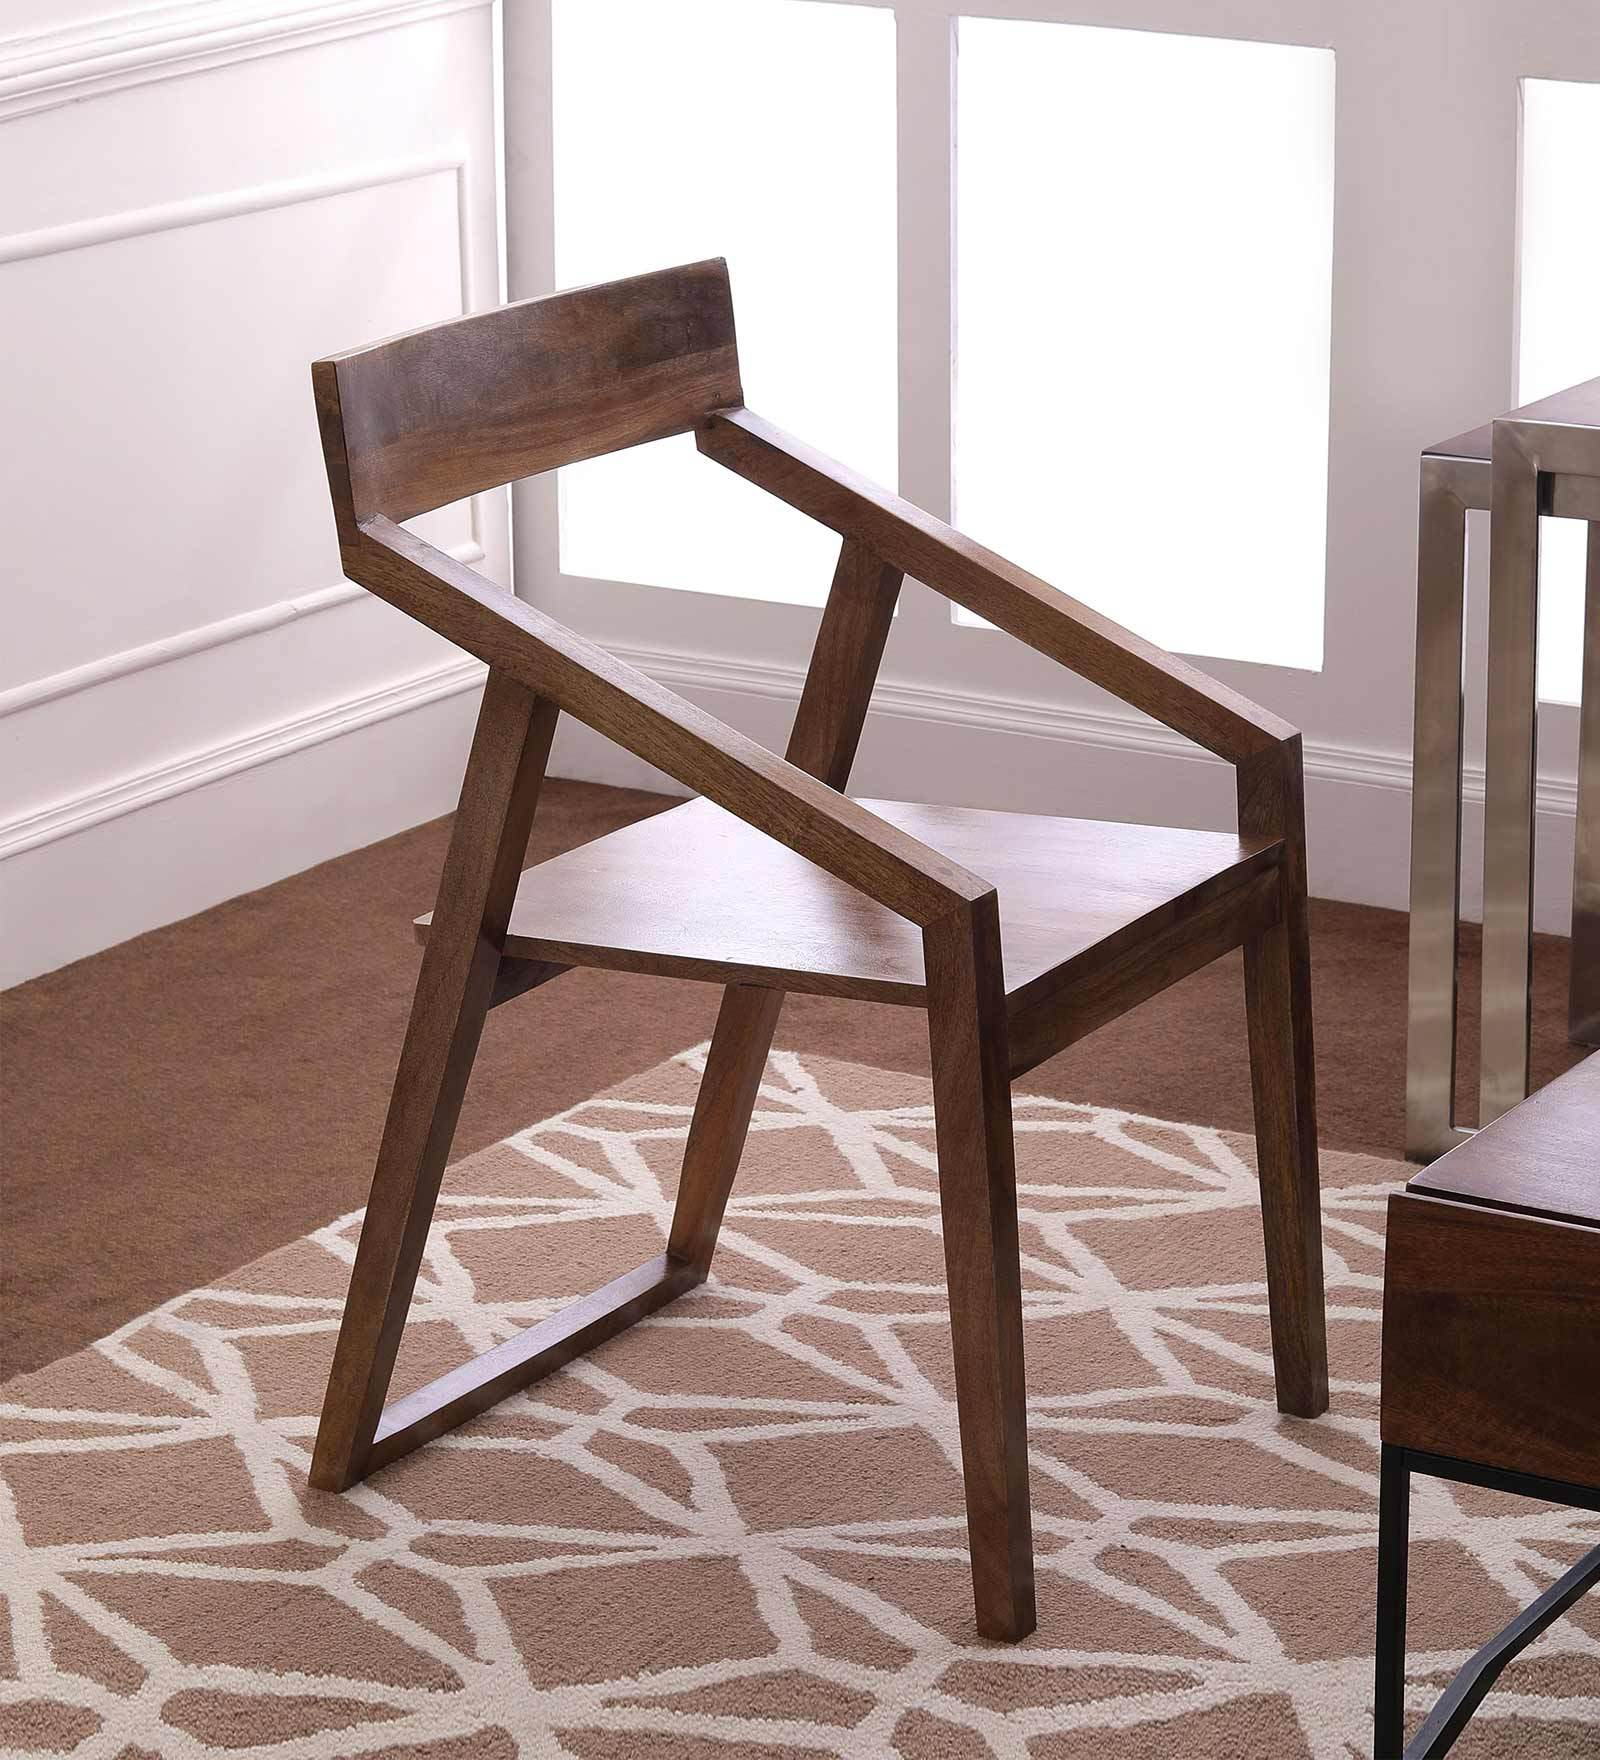Dulwich Solid Wood Arm Chair in Natural Finish by TheArmchair: (199, 242, 1369, 1680)
